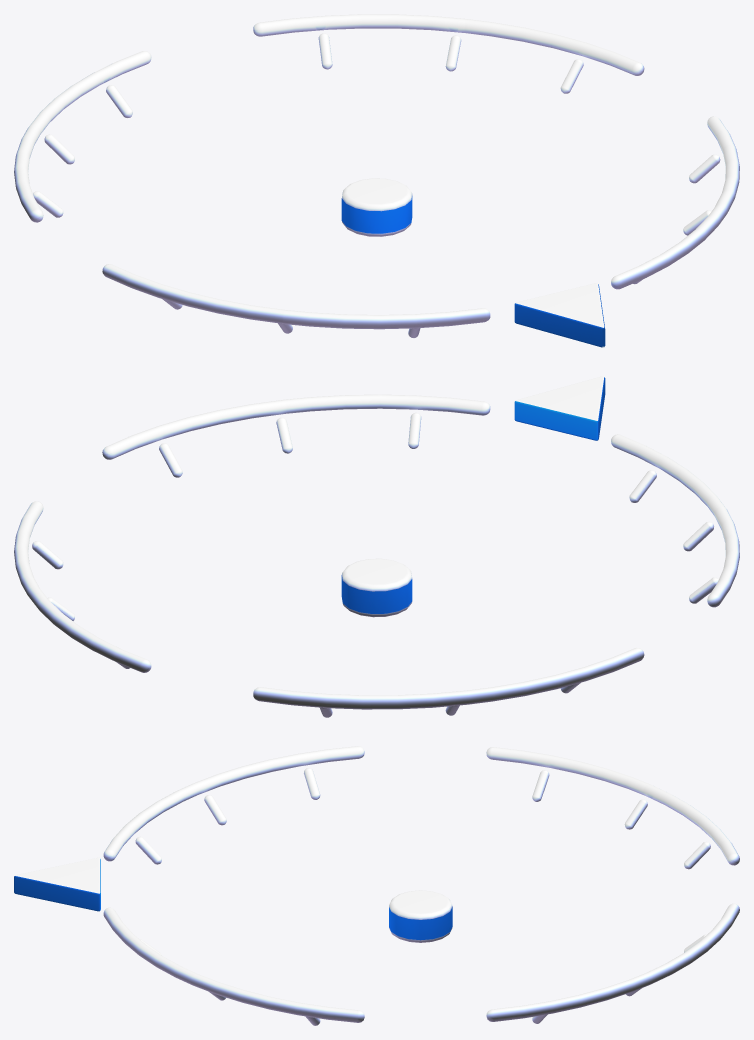
Rendered from geospatial_marker.glb.
3 renders of one model, top to bottom at view 1: azimuth 30°, elevation 25°; view 2: azimuth 150°, elevation 25°; view 3: azimuth 270°, elevation 25°, orthographic. The views are drawn at different scales.
Visible parts, largest first — view 1: geospatial_marker.001; view 2: geospatial_marker.001; view 3: geospatial_marker.001.
Boxes of the visible parts, <box> form: geospatial_marker.001: <box>14,14,739,347</box>; geospatial_marker.001: <box>14,376,739,717</box>; geospatial_marker.001: <box>14,746,739,1025</box>.
Size of the model in its own units: 2 by 0.1941 by 2.28.
Materials: 1 (1 with a texture image).
